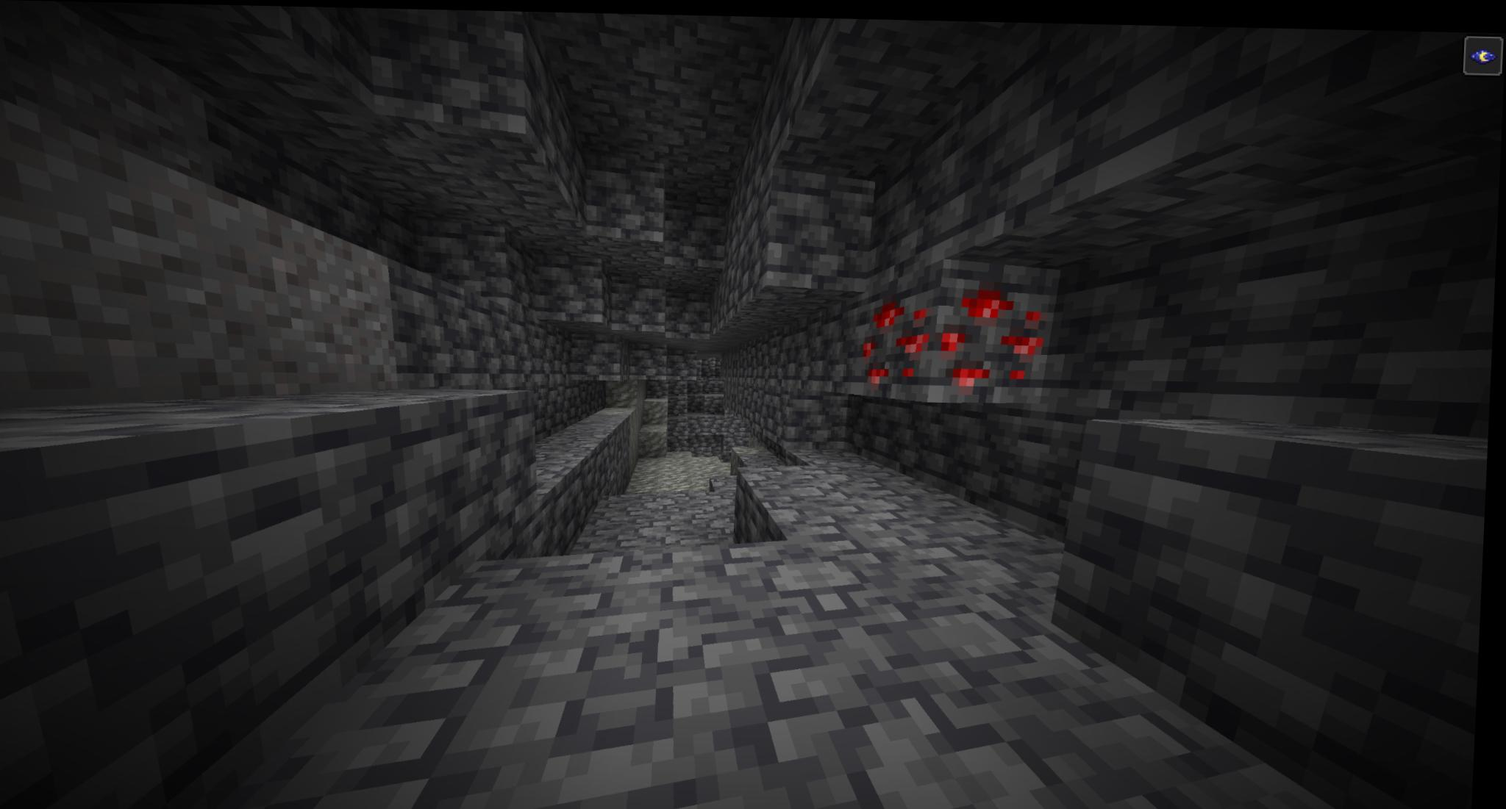redstone ore: (942, 281, 1060, 388), (847, 290, 939, 391)
